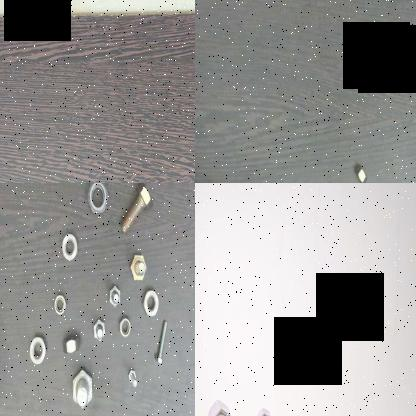Bolts: (119, 183, 155, 236), (68, 364, 96, 410), (149, 315, 172, 367), (127, 248, 147, 284), (89, 314, 105, 342), (106, 280, 120, 310), (126, 364, 141, 388)
NUTS: (26, 333, 51, 367), (85, 183, 107, 216), (60, 230, 79, 262), (61, 328, 82, 356), (142, 286, 160, 318), (51, 292, 66, 318), (117, 314, 132, 340)
